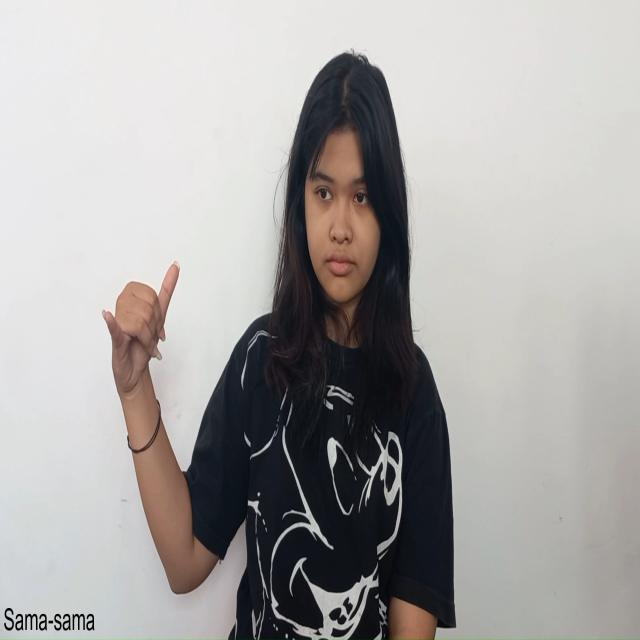Sama-sama -BISINDO-: (99, 255, 183, 409)
